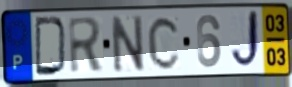6: (194, 13, 224, 70)
C: (146, 14, 182, 72)
D: (33, 15, 69, 78)
J: (229, 8, 262, 73)
N: (109, 13, 147, 75)
R: (66, 15, 107, 76)
